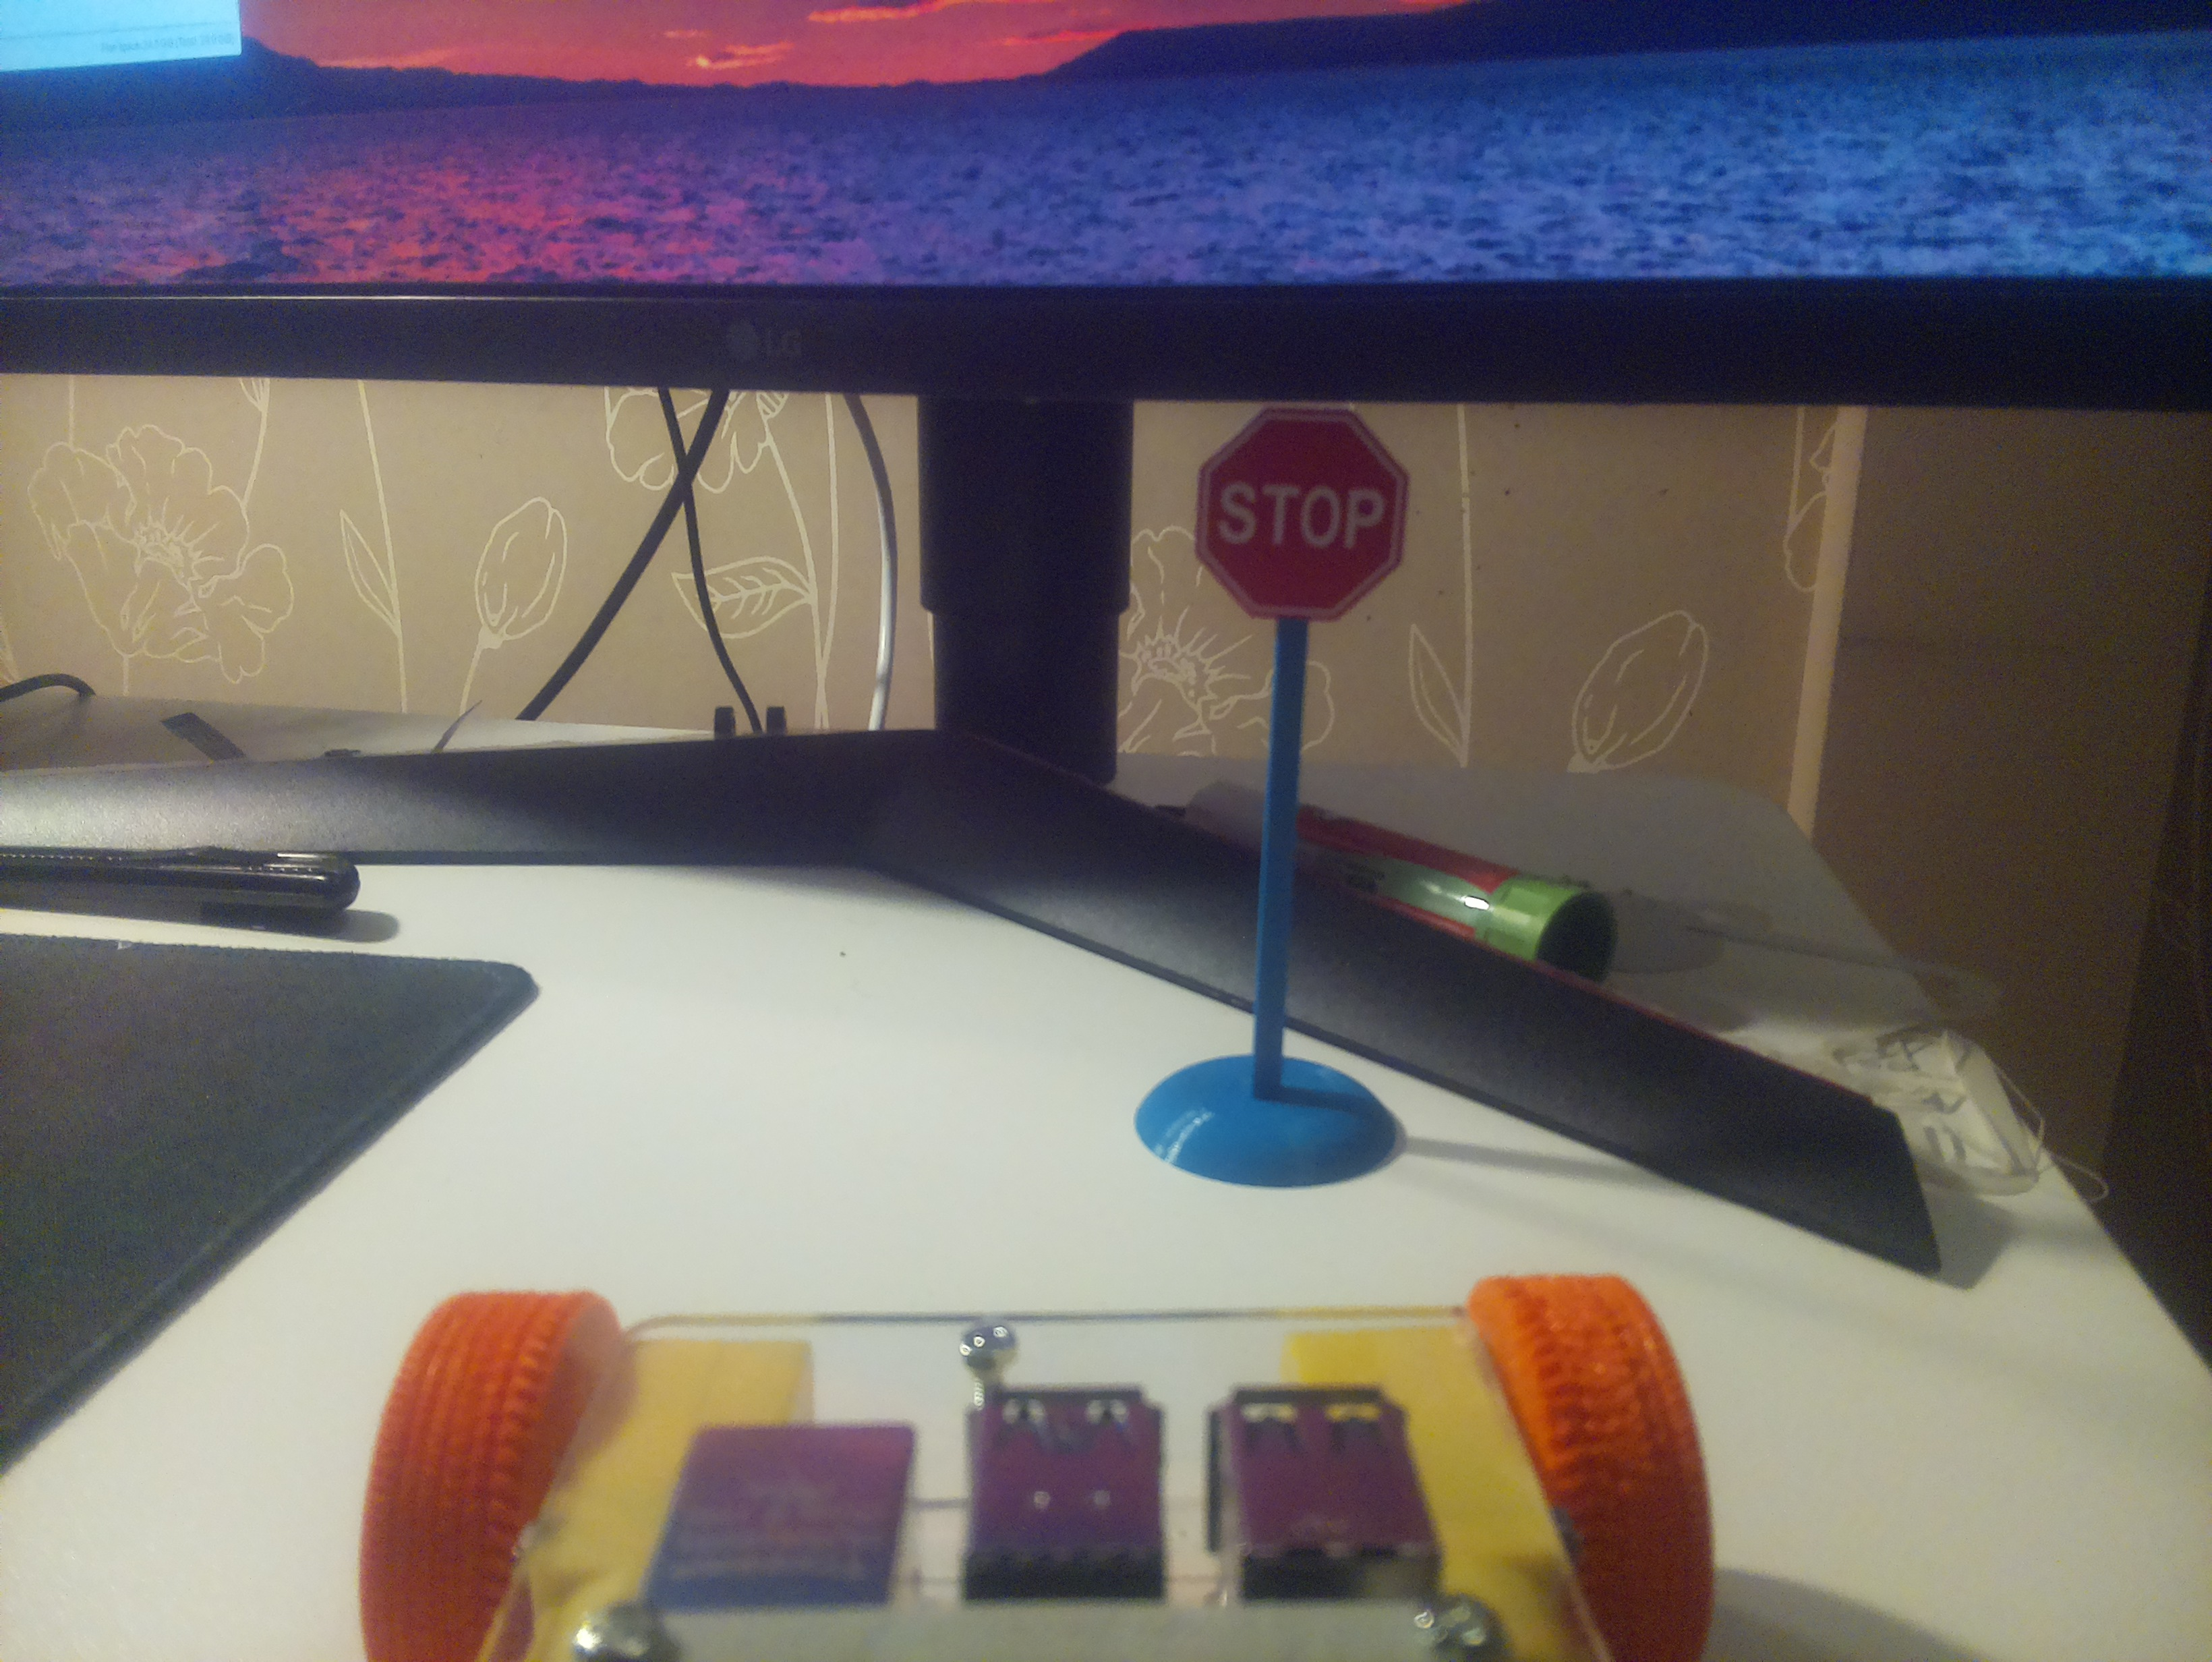stop: (1197, 407, 1409, 618)
